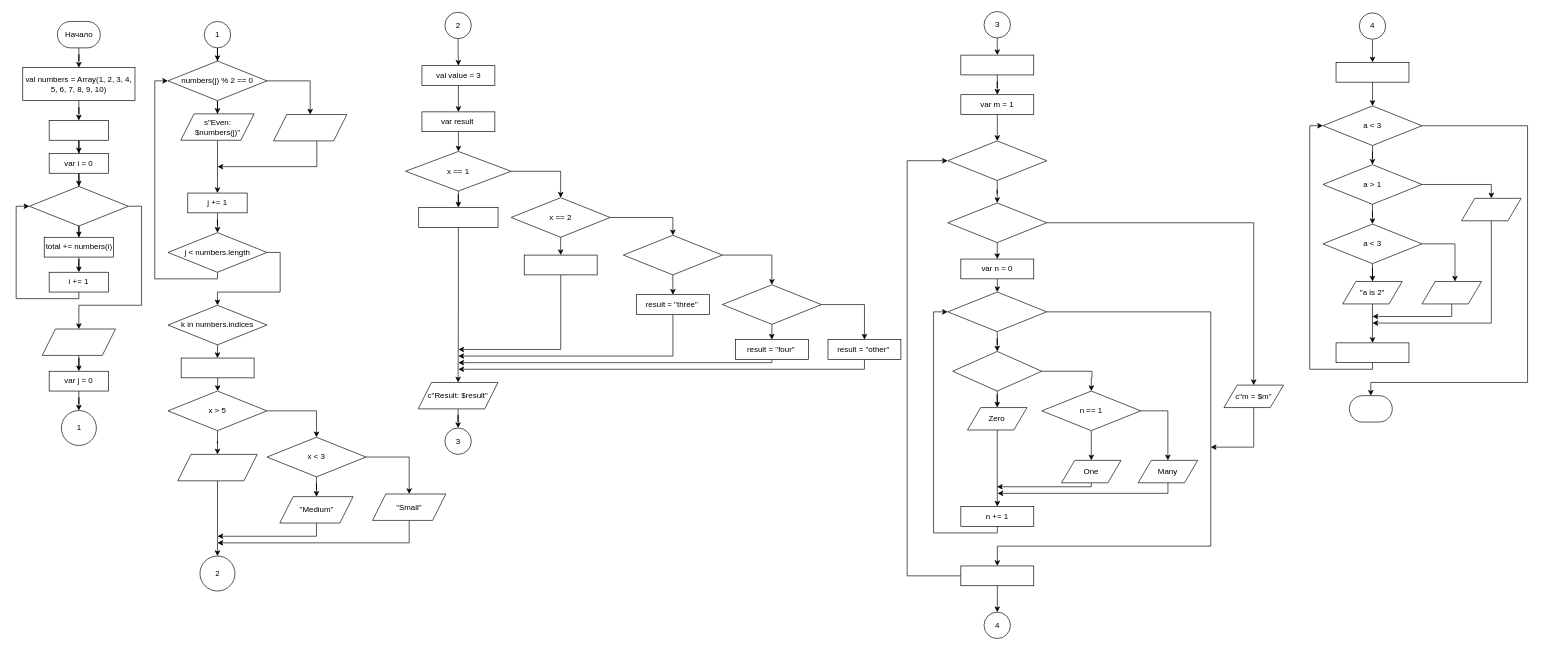
The diagram is 1544 pixels wide and 650 high, and some of its shapes have lost their labels. The shapes that lost their labels are listed below. From the top down, each one's box as (x1, y1, x2, y2) in pixels, then its label:
(960, 54, 1034, 75): val counter = 0
(1335, 62, 1409, 82): var a = 1
(49, 120, 109, 140): var total = 0
(273, 114, 347, 141): s"Odd: $numbers(j)"
(947, 140, 1047, 181): m < 2
(29, 186, 128, 226): i < numbers.length
(418, 207, 498, 227): result = "one"
(947, 202, 1047, 243): m == 1
(1461, 198, 1521, 221): "a is 1"
(524, 254, 597, 275): result = "two"
(623, 235, 722, 275): x == 3
(722, 284, 821, 324): x == 4
(947, 291, 1047, 332): n < 3
(1421, 281, 1482, 304): "a is 3"
(42, 328, 116, 355): s"Total: $total"
(1335, 342, 1409, 363): a += 1
(181, 357, 254, 378): val x = numbers(k)
(952, 351, 1042, 391): n == 0
(1349, 395, 1392, 422): Конец
(177, 454, 257, 481): "Large"
(960, 565, 1034, 586): m += 1
